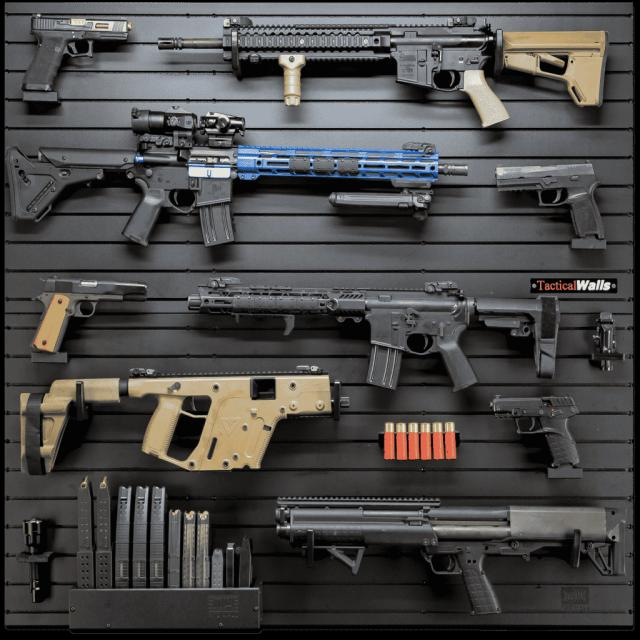HandGun: (493, 164, 607, 251), (21, 19, 132, 103), (32, 277, 148, 354), (491, 392, 582, 480)
Rifle: (4, 109, 469, 247), (158, 26, 607, 127), (188, 277, 557, 392)
SMG: (22, 374, 339, 476)
ShotGun: (277, 500, 630, 615)
